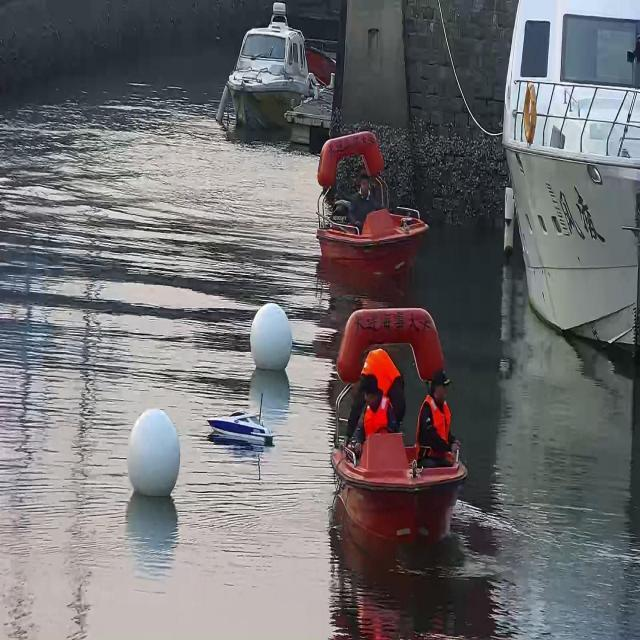ship2: (332, 300, 467, 558), (218, 3, 328, 146)
